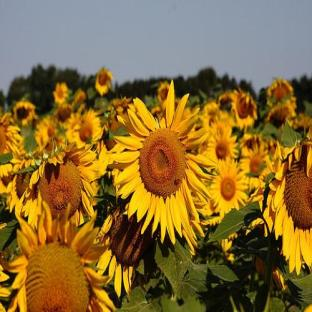sunflower: (114, 81, 217, 245)
